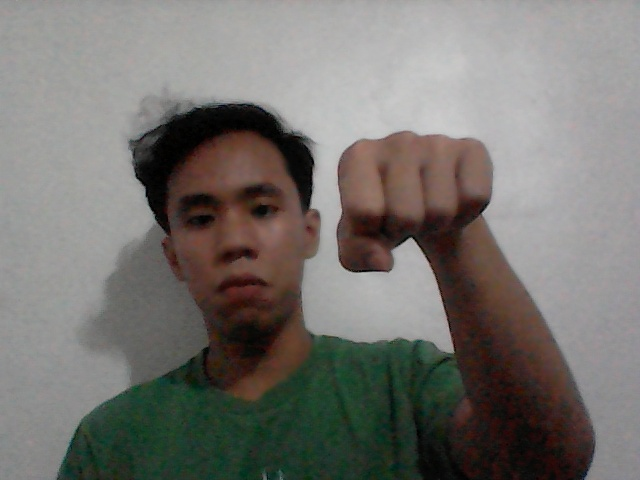Yes: (307, 107, 515, 310)
